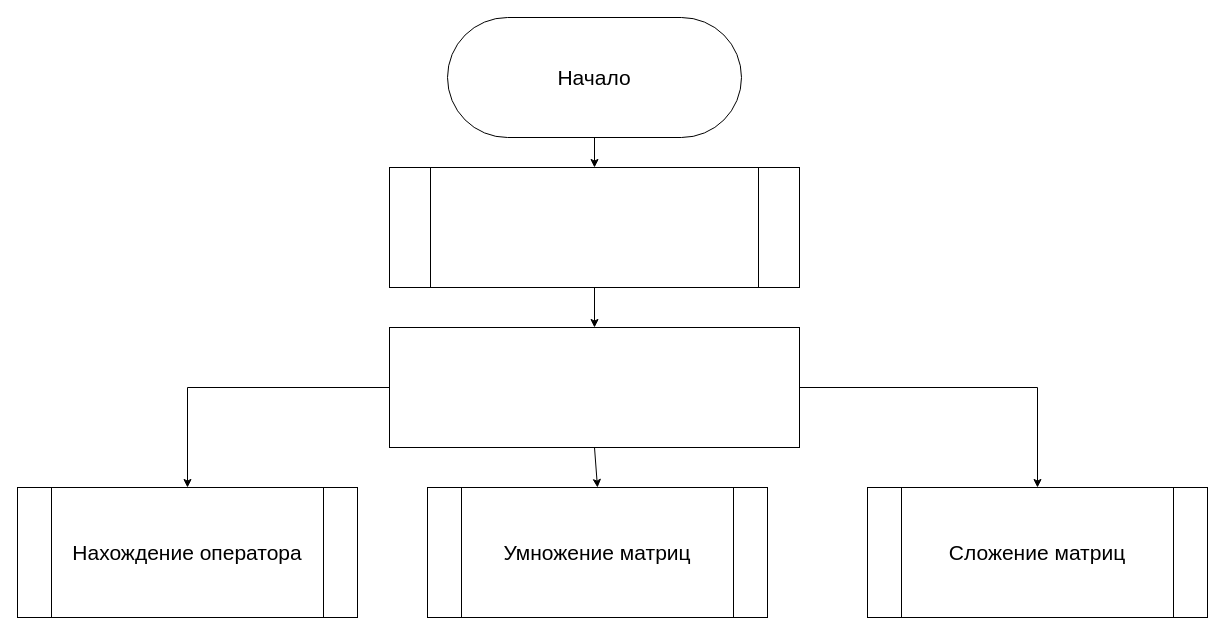
The diagram is 1225 pixels wide and 635 high, and some of its shapes have lost their labels. Here are the shapes that lost their labels. From the top down, the centre of each, then its label:
At pixel 594 227: "Ввод данных".
At pixel 594 387: "Выбор операции".
